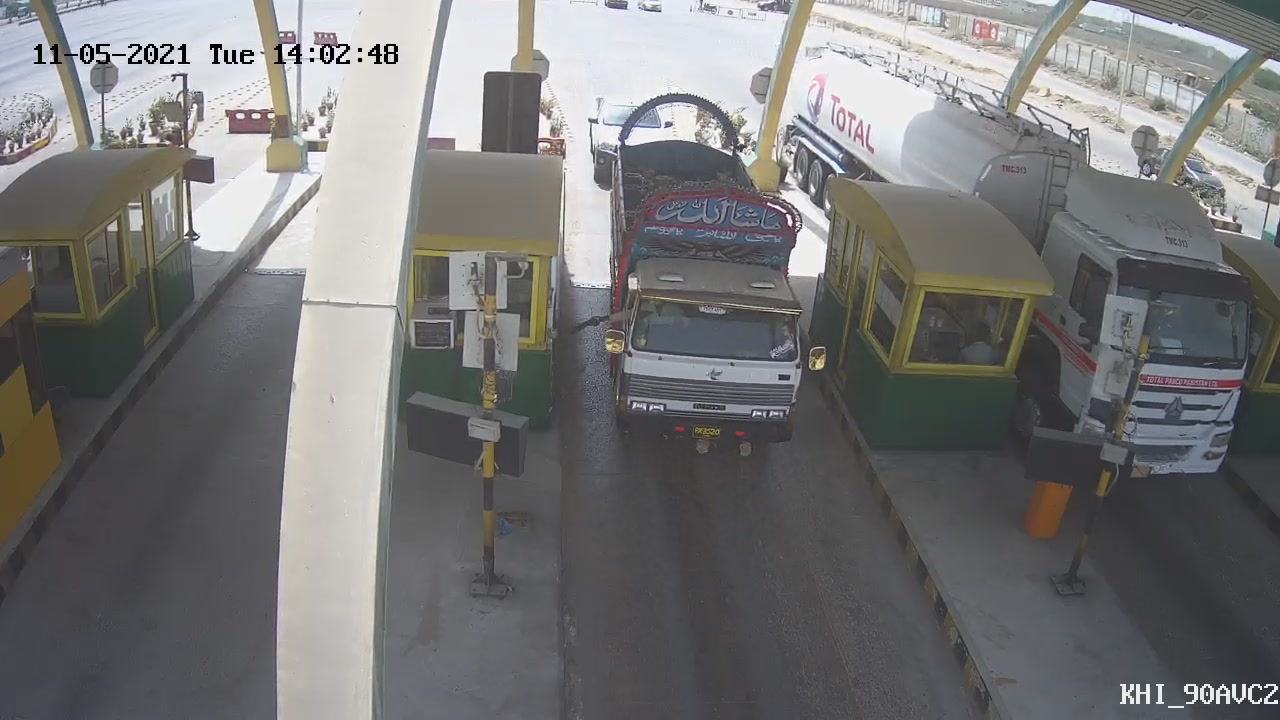F5: (604, 93, 806, 463)
